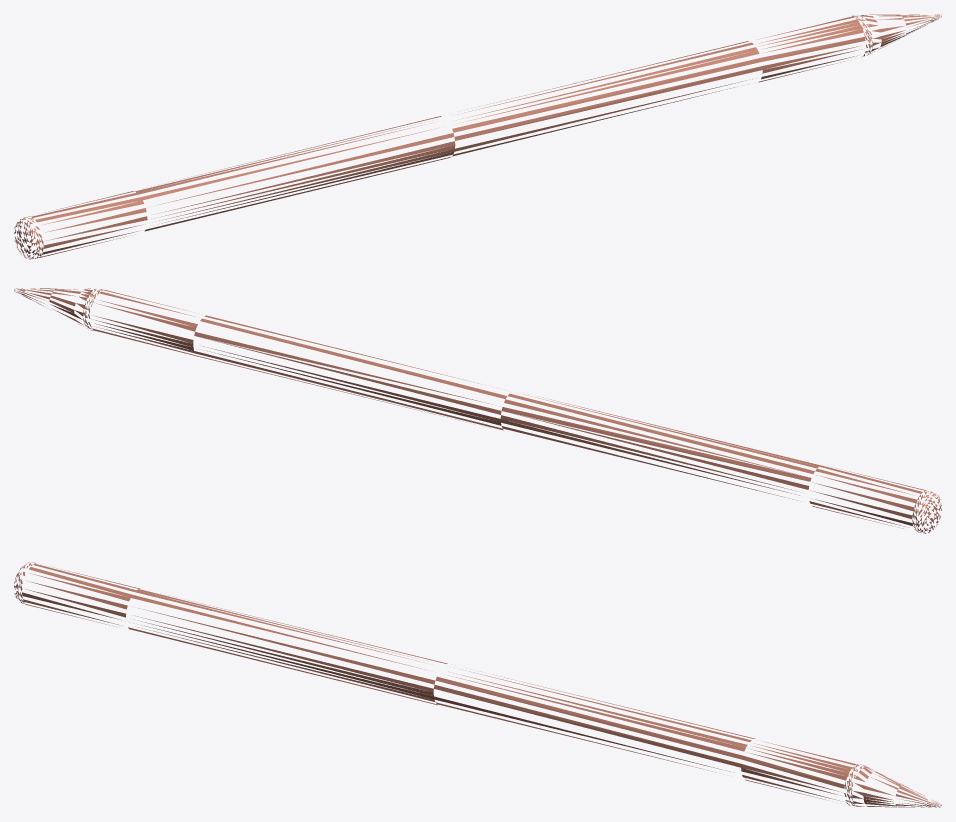
The model's file is stationery_pencil_watercolor_lushGreen_a01.glb.
3 renders of one model, top to bottom at view 1: azimuth 30°, elevation 25°; view 2: azimuth 150°, elevation 25°; view 3: azimuth 330°, elevation 25°, orthographic.
Parts seen in each view (by area): view 1: geometry_0; view 2: geometry_0; view 3: geometry_0.
Boxes of the visible parts, box(x1,y1,x2,y2) form: geometry_0: box(14, 14, 941, 259); geometry_0: box(14, 288, 941, 533); geometry_0: box(14, 562, 941, 807).
Bounding box in the file's own units: 0.48 × 0.0194 × 0.0194.
